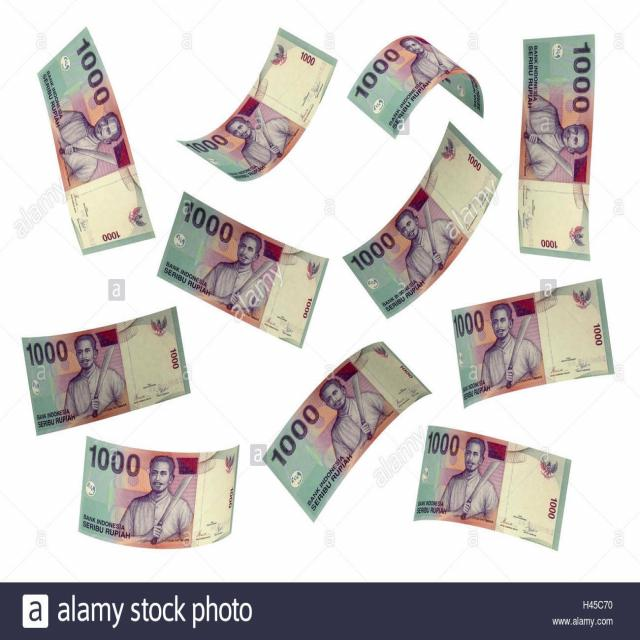1000IndonesianRupiah: (418, 424, 570, 544)
